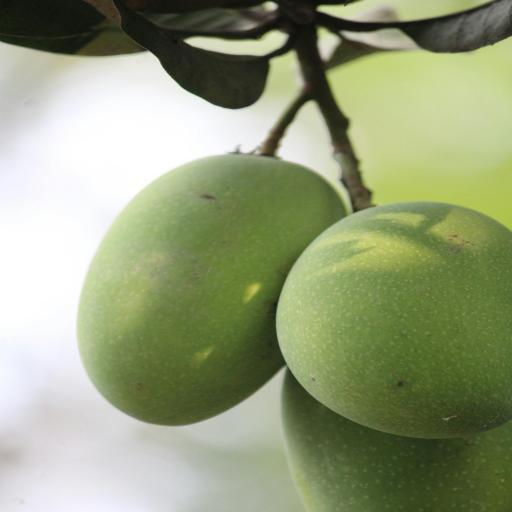mango: (75, 153, 349, 425), (273, 199, 511, 441)
